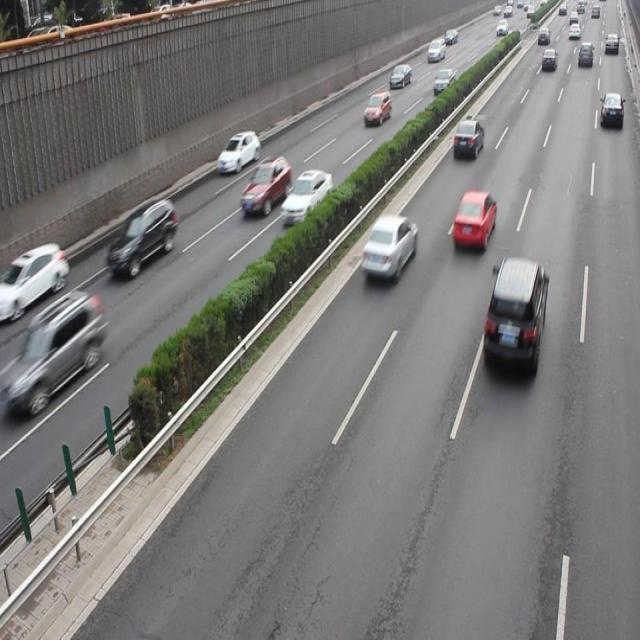car: (16, 290, 104, 409), (482, 257, 546, 376), (106, 196, 178, 278), (1, 242, 69, 318), (359, 213, 417, 281), (280, 168, 332, 228), (240, 153, 291, 214), (450, 190, 495, 251), (216, 129, 260, 174), (452, 119, 483, 161), (598, 90, 622, 130), (363, 92, 391, 124)
